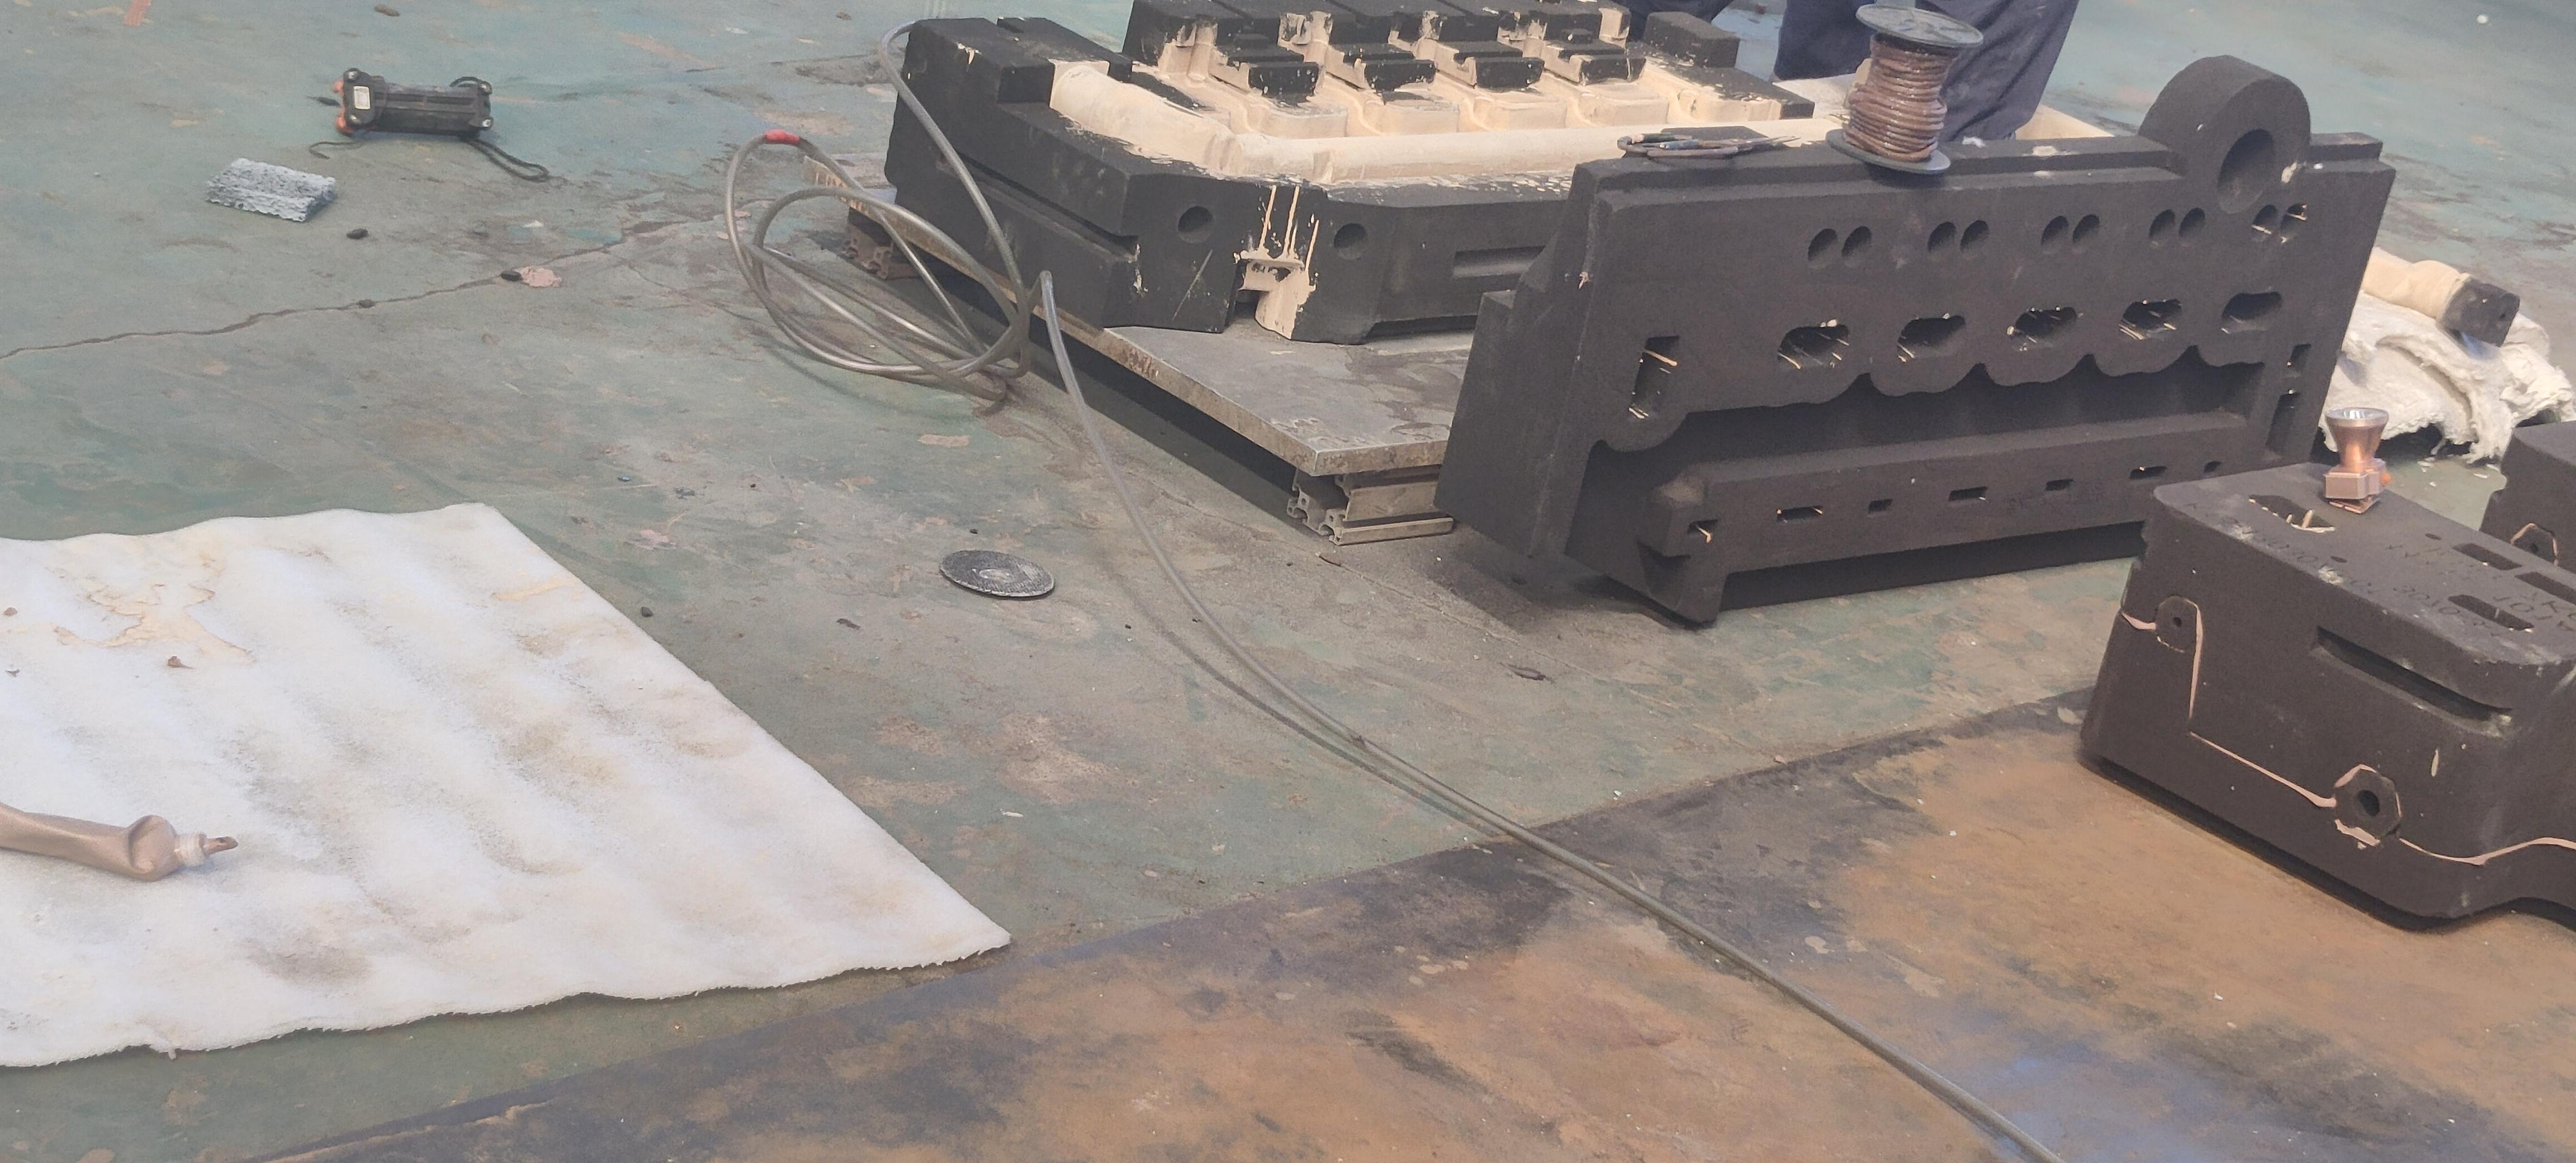pouring hole: (2216, 128, 2277, 214)
